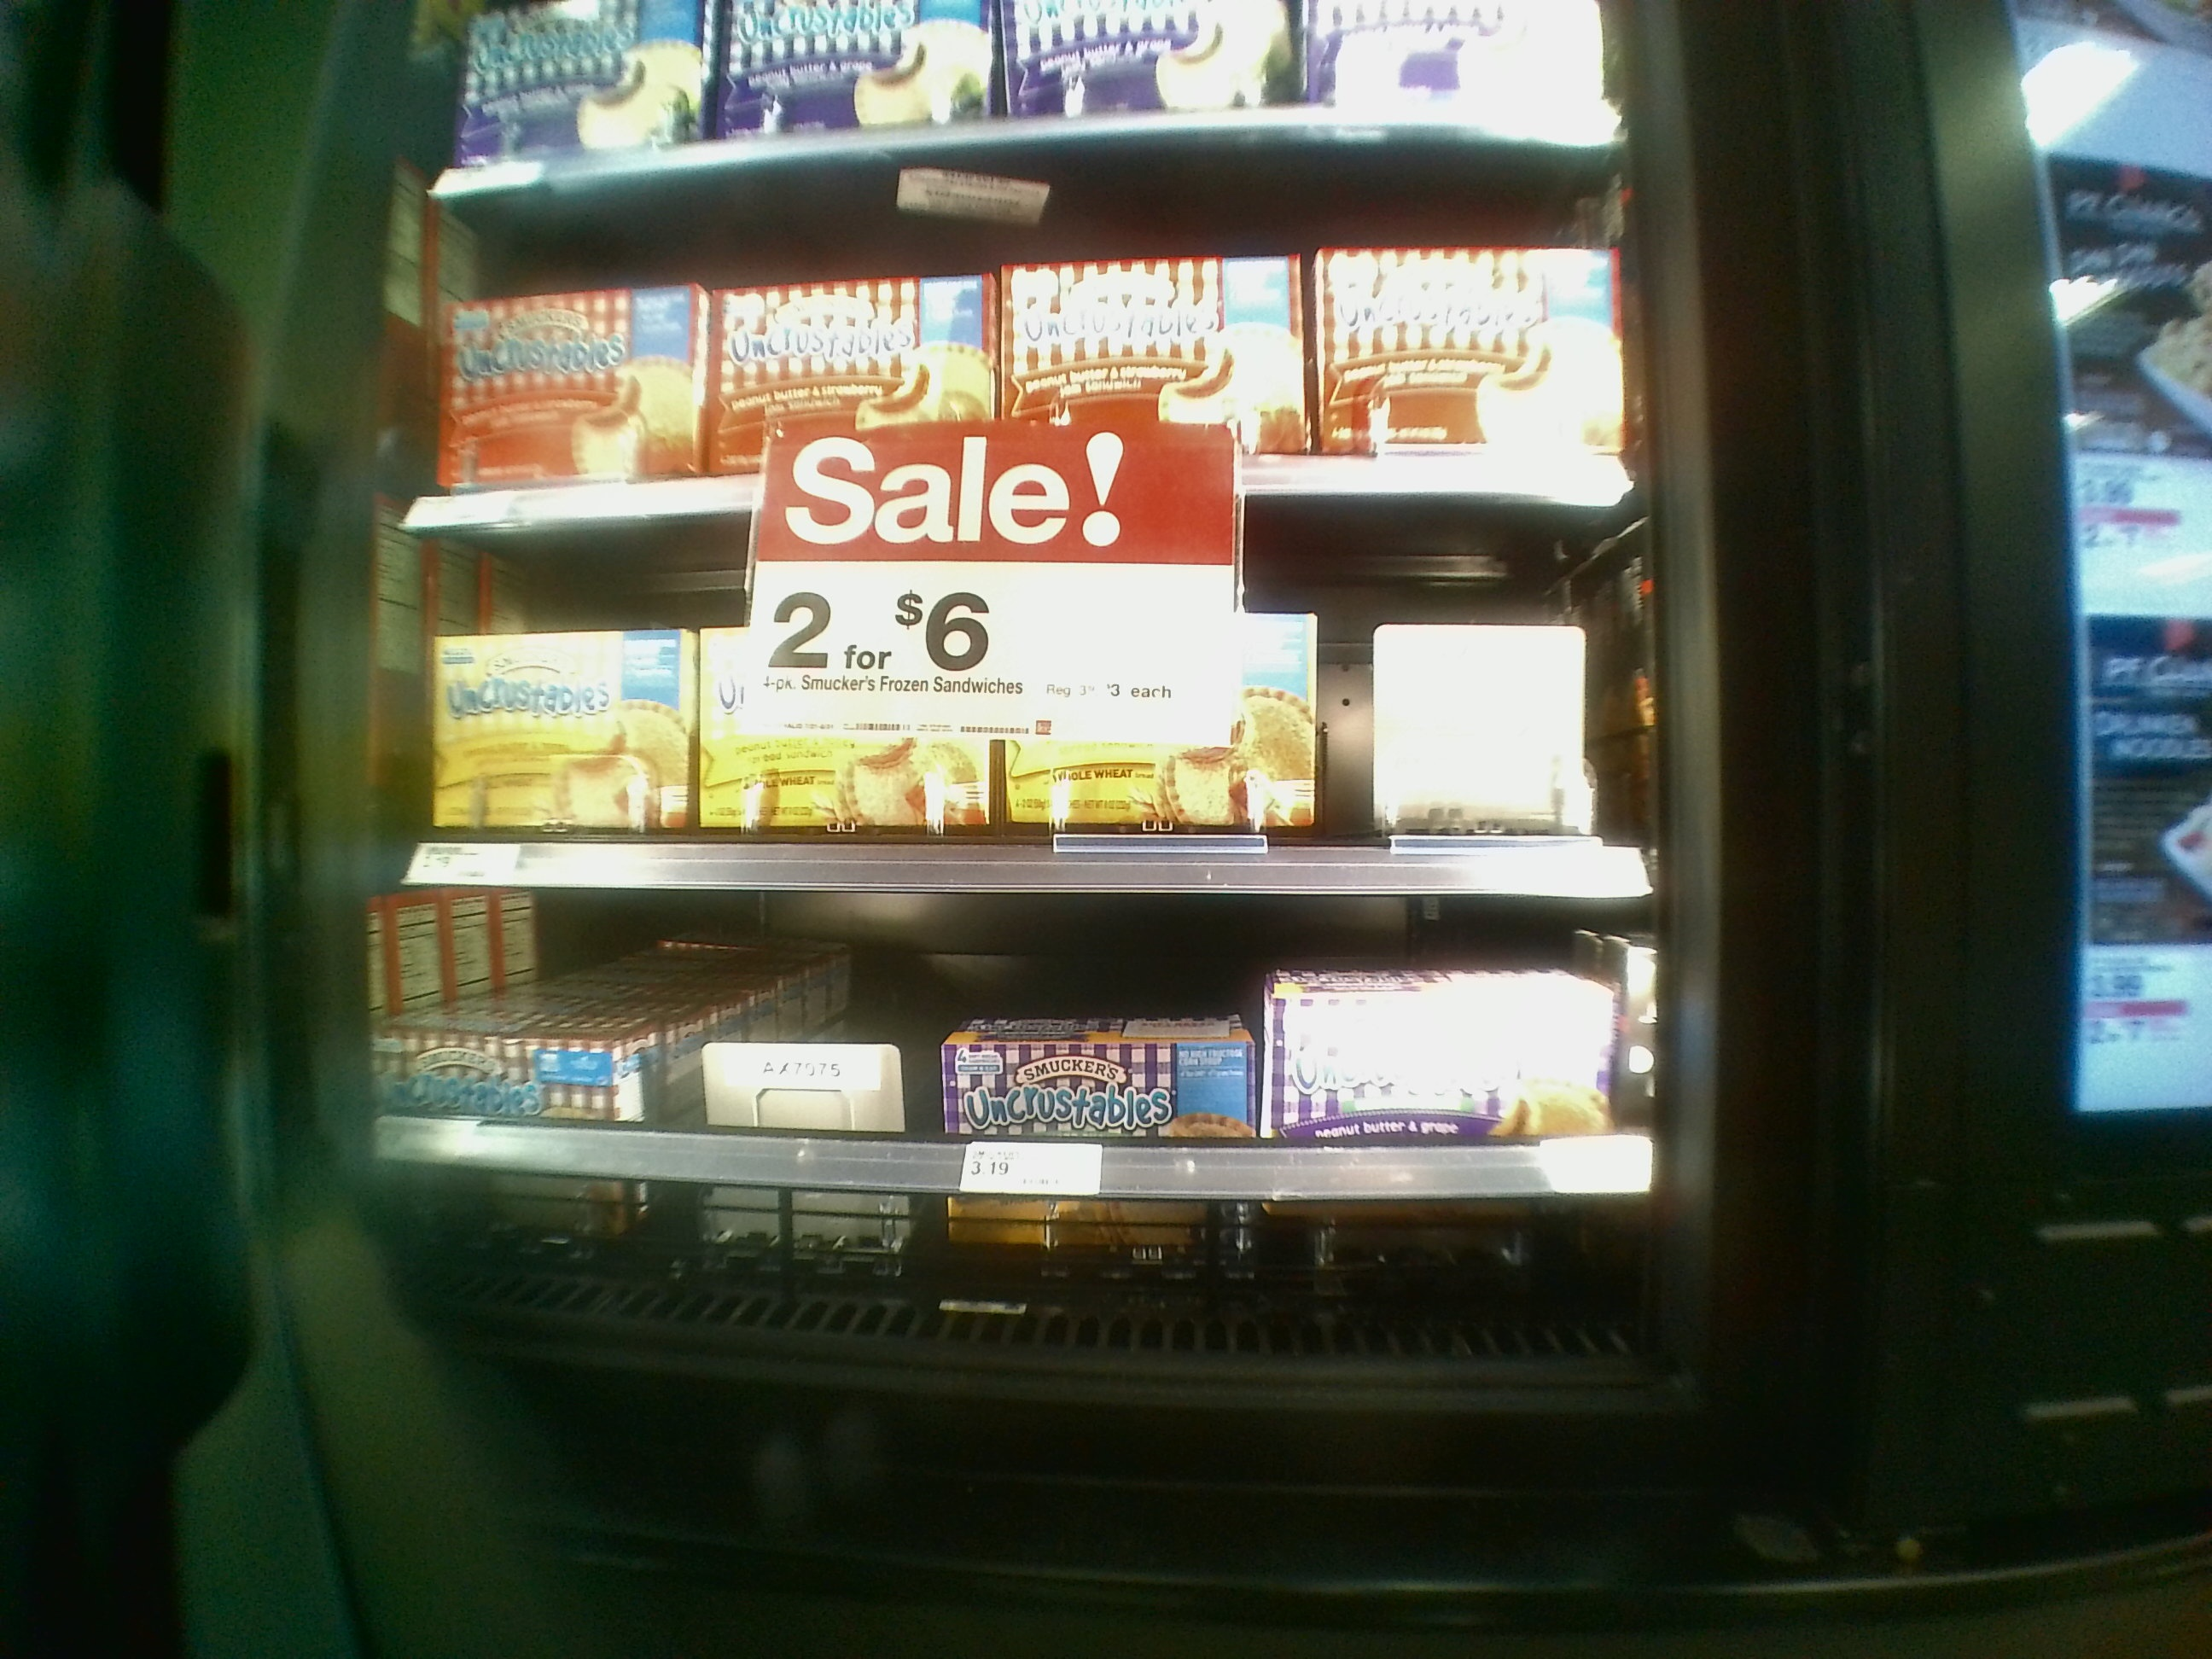shelf: (371, 899, 1703, 1424), (397, 518, 1646, 917), (392, 193, 1642, 518)
